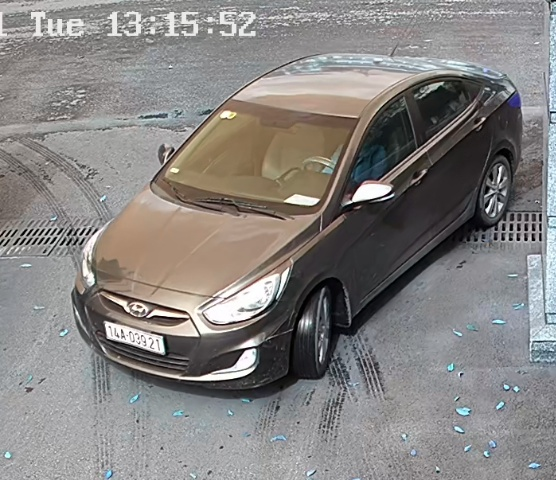vehicle plate: (96, 316, 174, 358)
